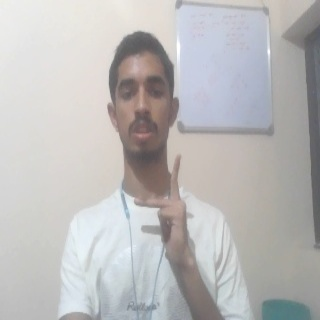Face: (105, 30, 180, 158)
Okay: (131, 151, 193, 271)
